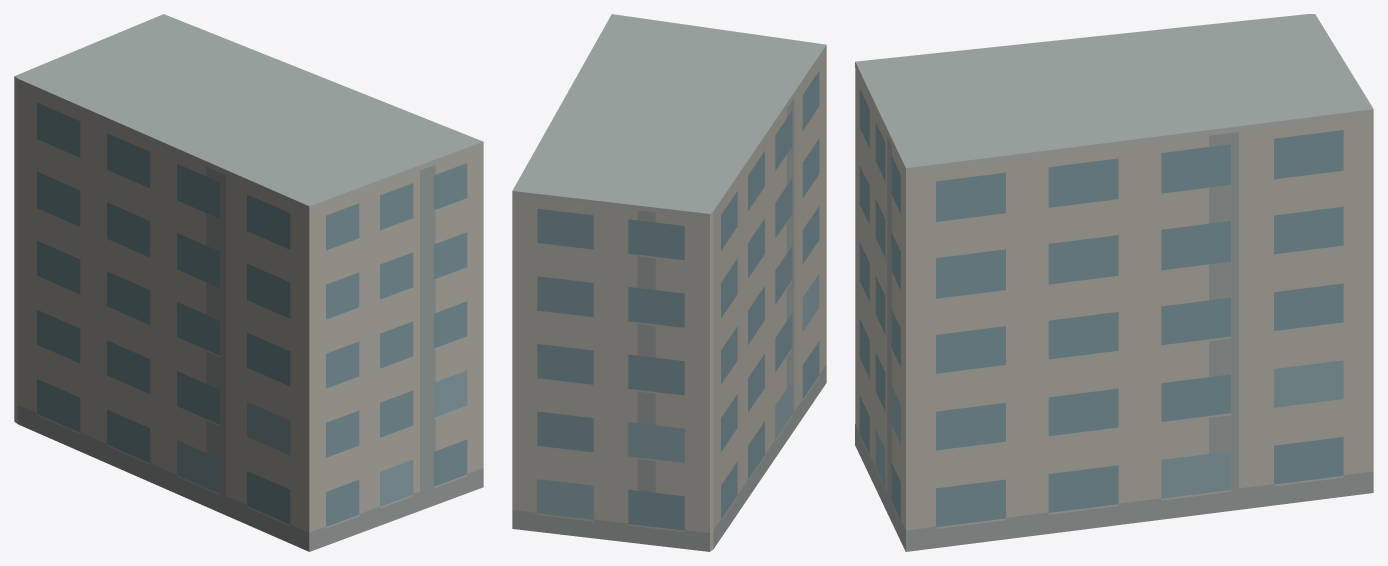
The model's file is survey-upis-32995917.glb.
3 views of the same model, side by side, from view 1: azimuth 30°, elevation 25°; view 2: azimuth 150°, elevation 25°; view 3: azimuth 270°, elevation 25° (orthographic). The views are drawn at different scales.
Visible parts, largest first — view 1: survey-upis-32995917.tmp; view 2: survey-upis-32995917.tmp; view 3: survey-upis-32995917.tmp.
Part boxes in pixels (box(x1,y1,x2,y2)): survey-upis-32995917.tmp: box(14, 14, 483, 551); survey-upis-32995917.tmp: box(512, 14, 826, 551); survey-upis-32995917.tmp: box(855, 14, 1373, 551).
Bounding box in the file's own units: 13.98 × 16.2 × 19.86.
